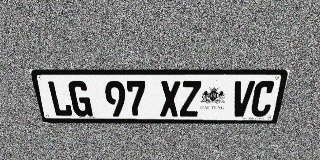7: (125, 81, 146, 117)
9: (104, 81, 127, 117)
C: (249, 81, 277, 117)
G: (67, 81, 93, 117)
L: (46, 81, 73, 117)
V: (230, 81, 255, 117)
X: (160, 81, 180, 117)
Z: (180, 81, 201, 117)
